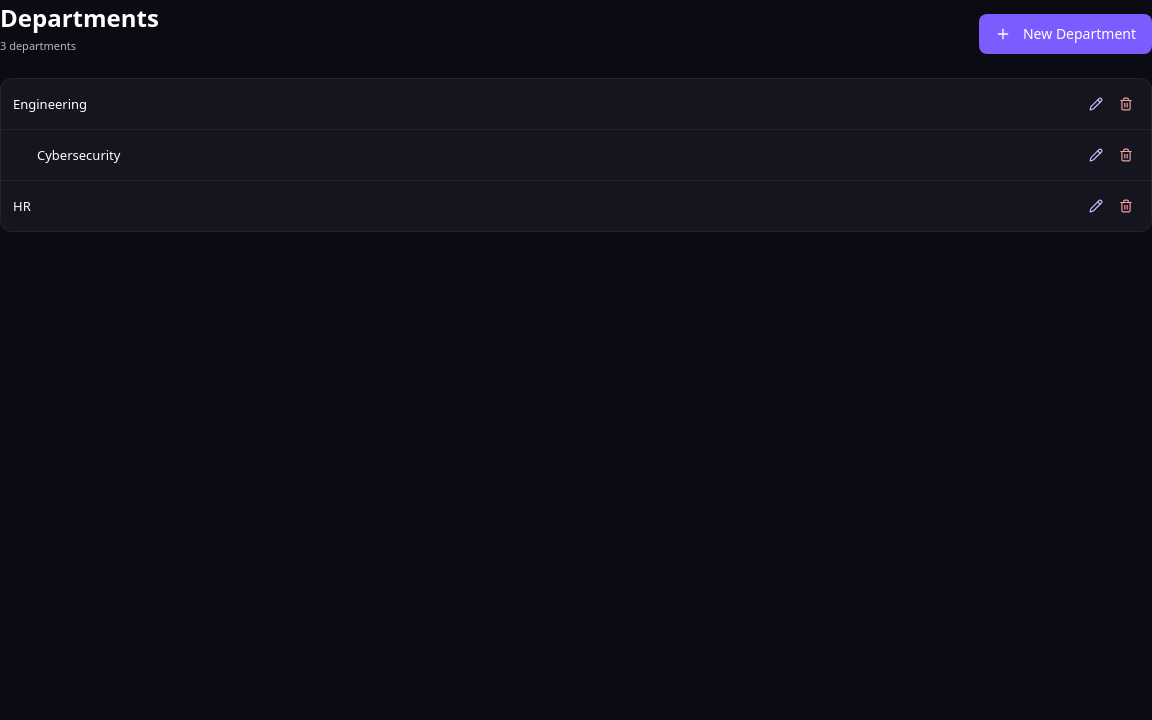
it: DepartmentsAdminPage › opens create modal when New Department clicked
Expected: the text "Engineering" is shown, [13,94,87,114]
Click the button "New Department" at (1066,34), box [979,14,1151,54]
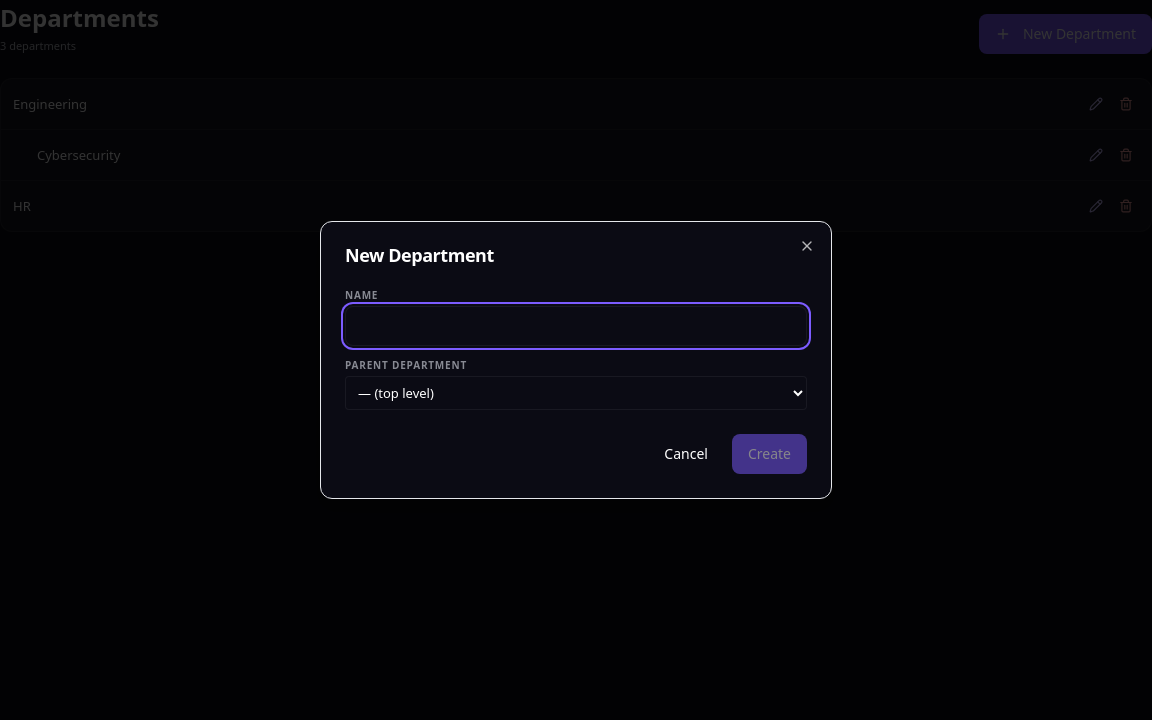
Result: the heading "New Department" is shown at [345,243,494,267]
